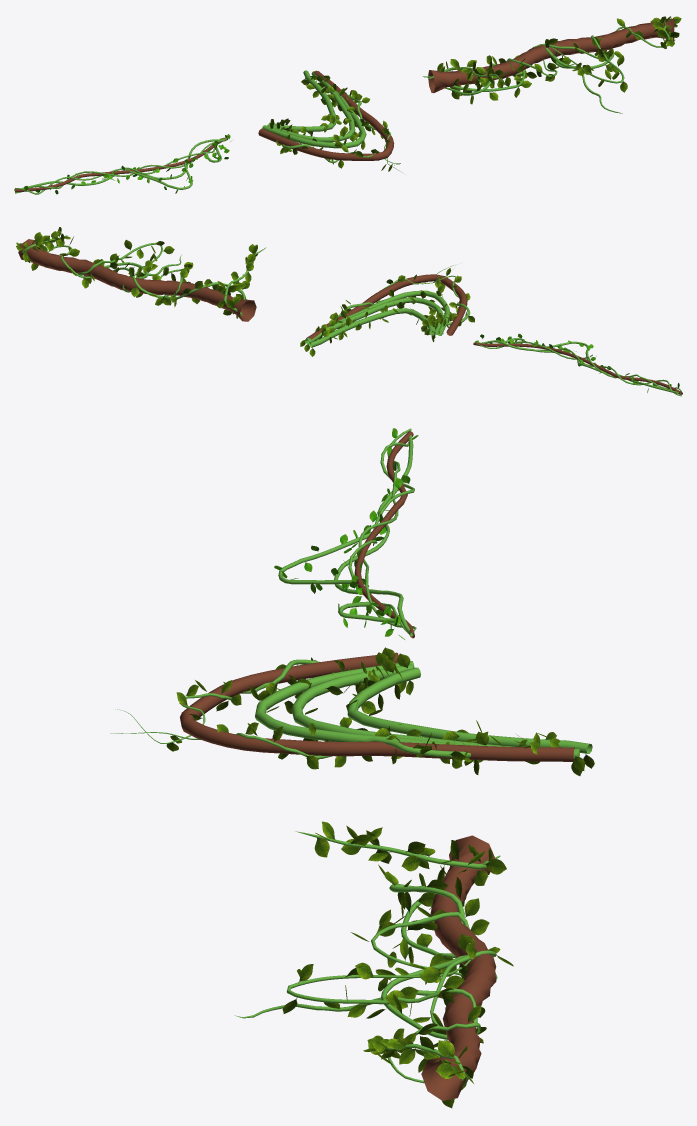
The model's file is vinesV3,4,5.fbx.
3 renders of one model, top to bottom at view 1: azimuth 30°, elevation 25°; view 2: azimuth 150°, elevation 25°; view 3: azimuth 270°, elevation 25°, orthographic. The views are drawn at different scales.
Parts seen in each view (by area): view 1: Vines5Leaves, VineV5Branch, VinesV4Vines, VinesV4Leaves, Vines5Vines, VinesV4Branch, VinesV3Vines, VinesV3Leaves, VinesV3Branch; view 2: VineV5Branch, Vines5Leaves, VinesV4Vines, VinesV4Leaves, Vines5Vines, VinesV4Branch, VinesV3Vines, VinesV3Branch, VinesV3Leaves; view 3: Vines5Leaves, VinesV4Vines, VinesV4Branch, VineV5Branch, Vines5Vines, VinesV4Leaves, VinesV3Vines, VinesV3Leaves, VinesV3Branch.
Part boxes in pixels (bbox=[...]): Vines5Leaves: bbox=[437, 16, 681, 104]; VineV5Branch: bbox=[428, 18, 674, 93]; VinesV4Vines: bbox=[262, 70, 402, 172]; VinesV4Leaves: bbox=[270, 75, 392, 171]; Vines5Vines: bbox=[422, 26, 667, 113]; VinesV4Branch: bbox=[258, 70, 394, 160]; VinesV3Vines: bbox=[15, 137, 227, 194]; VinesV3Leaves: bbox=[14, 134, 230, 194]; VinesV3Branch: bbox=[15, 137, 228, 192]; VineV5Branch: bbox=[18, 239, 256, 321]; Vines5Leaves: bbox=[16, 227, 257, 318]; VinesV4Vines: bbox=[304, 265, 470, 347]; VinesV4Leaves: bbox=[300, 268, 474, 356]; Vines5Vines: bbox=[23, 242, 265, 318]; VinesV4Branch: bbox=[306, 274, 467, 340]; VinesV3Vines: bbox=[477, 338, 681, 396]; VinesV3Branch: bbox=[473, 342, 682, 395]; VinesV3Leaves: bbox=[475, 334, 679, 394]; Vines5Leaves: bbox=[282, 821, 513, 1108]; VinesV4Vines: bbox=[110, 659, 592, 760]; VinesV4Branch: bbox=[180, 652, 574, 761]; VineV5Branch: bbox=[421, 835, 496, 1100]; Vines5Vines: bbox=[234, 831, 500, 1085]; VinesV4Leaves: bbox=[166, 647, 594, 775]; VinesV3Vines: bbox=[278, 428, 416, 636]; VinesV3Leaves: bbox=[274, 428, 418, 639]; VinesV3Branch: bbox=[354, 431, 414, 638].
Bounding box in the file's own units: 422 × 33.67 × 138.
